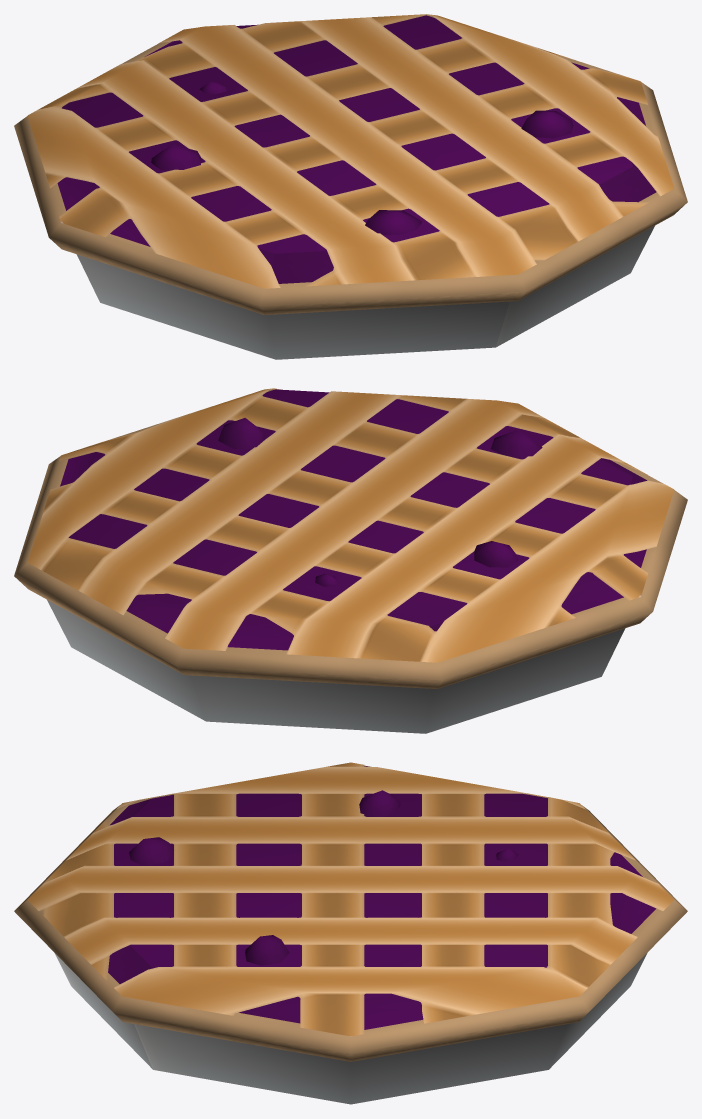
The model's file is Pie_B_02.FBX.
3 views of the same model, one above another, from view 1: azimuth 30°, elevation 25°; view 2: azimuth 150°, elevation 25°; view 3: azimuth 270°, elevation 25° (orthographic). The views are drawn at different scales.
Visible parts, largest first — view 1: Pie_B; view 2: Pie_B; view 3: Pie_B.
Boxes of the visible parts, x1,y1,x2,y2 form: Pie_B: (14, 14, 687, 359); Pie_B: (14, 388, 687, 733); Pie_B: (14, 762, 687, 1104).
Bounding box in the file's own units: 116 × 23.2 × 116.
